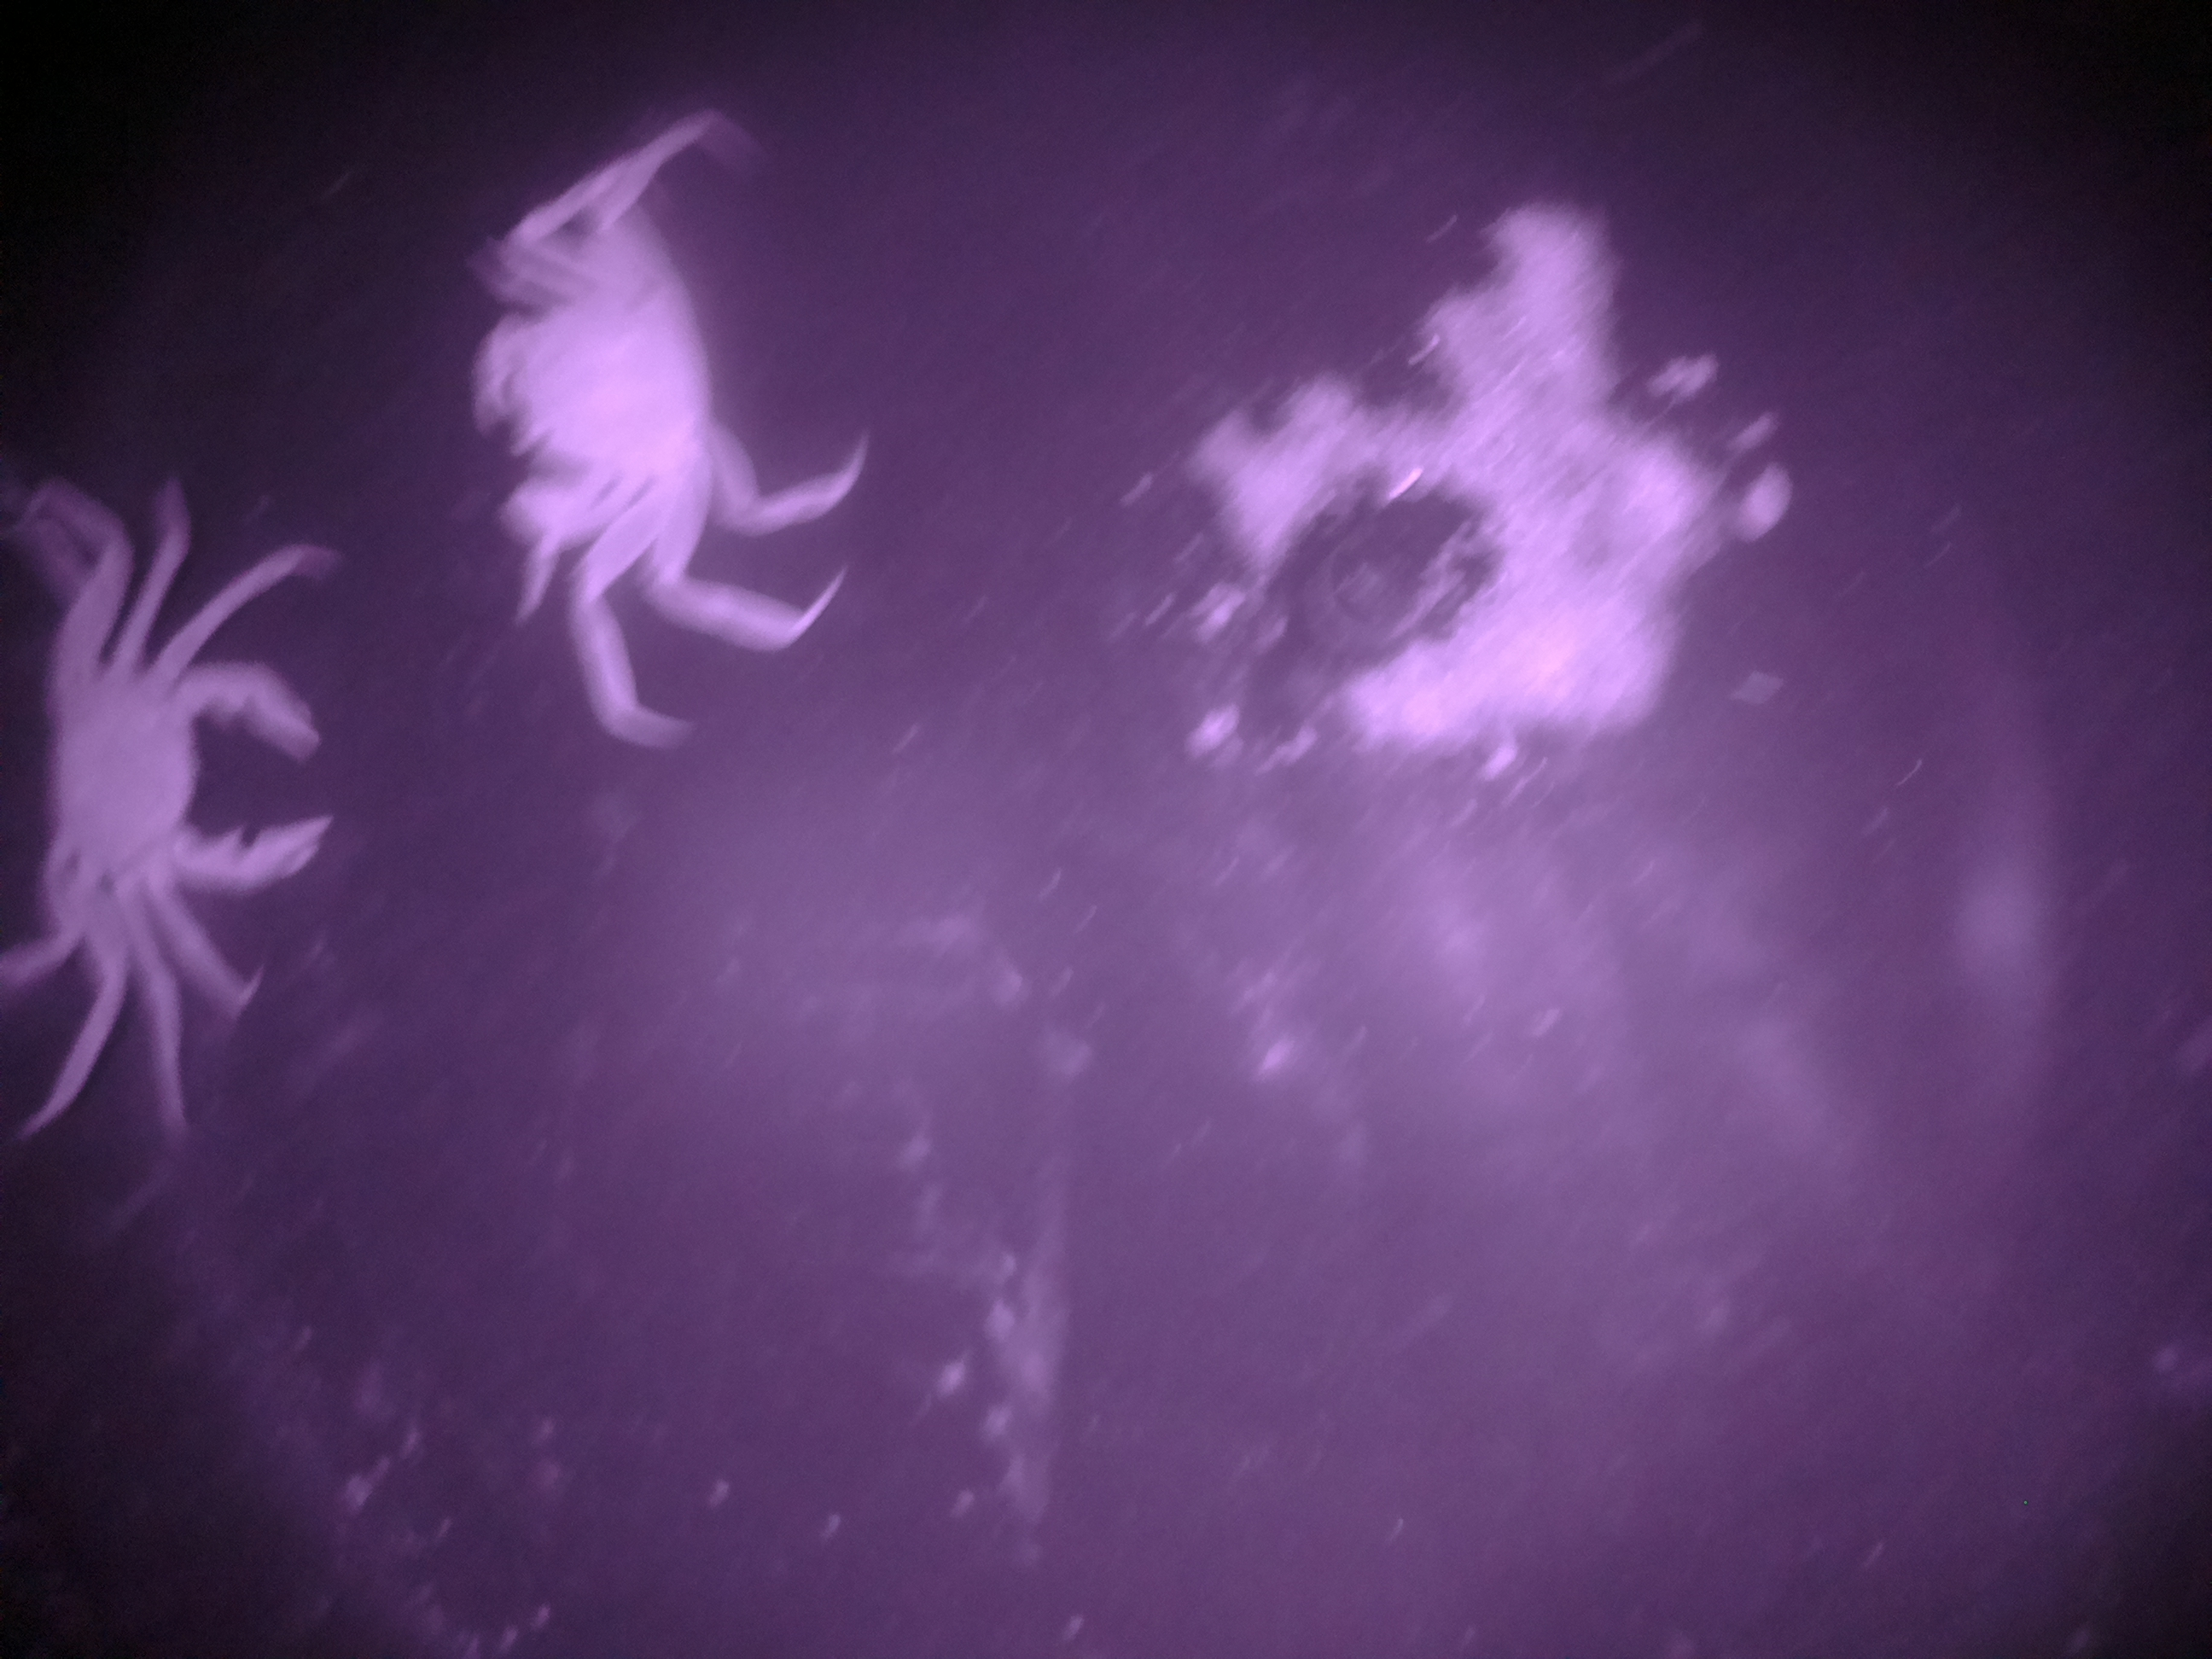Crab: (442, 134, 845, 694), (0, 552, 368, 1014)
